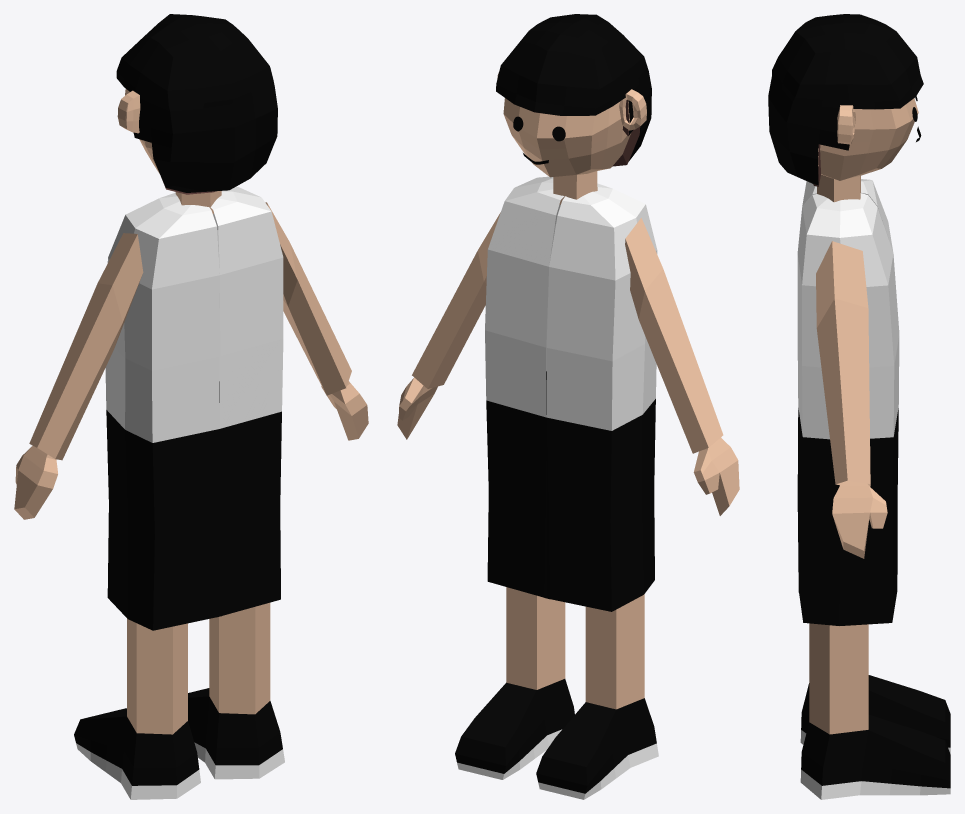
Rendered from student03(wave).fbx.
3 renders of one model, left to right at view 1: azimuth 30°, elevation 25°; view 2: azimuth 150°, elevation 25°; view 3: azimuth 270°, elevation 25°, orthographic. The views are drawn at different scales.
Parts seen in each view (by area): view 1: Lec_body, Lec_leg, Lec_hair, Lec_arm, Lec_ear; view 2: Lec_body, Lec_leg, Lec_arm, Lec_hair, Lec_head, Lec_neck, Lec_ear; view 3: Lec_body, Lec_leg, Lec_hair, Lec_arm, Lec_head, Lec_neck, Lec_ear.
Boxes of the visible parts, left/top/right/bottom form: Lec_body: left=105, top=187, right=283, bottom=630; Lec_leg: left=74, top=602, right=284, bottom=799; Lec_hair: left=116, top=14, right=277, bottom=192; Lec_arm: left=14, top=202, right=368, bottom=519; Lec_ear: left=117, top=90, right=140, bottom=133; Lec_body: left=485, top=176, right=657, bottom=611; Lec_leg: left=455, top=587, right=658, bottom=799; Lec_arm: left=397, top=212, right=739, bottom=515; Lec_hair: left=496, top=14, right=651, bottom=160; Lec_head: left=503, top=98, right=640, bottom=177; Lec_neck: left=553, top=171, right=597, bottom=204; Lec_ear: left=497, top=72, right=646, bottom=130; Lec_body: left=797, top=179, right=899, bottom=625; Lec_leg: left=800, top=623, right=950, bottom=799; Lec_hair: left=768, top=14, right=923, bottom=185; Lec_arm: left=816, top=241, right=887, bottom=558; Lec_head: left=813, top=98, right=918, bottom=186; Lec_neck: left=817, top=156, right=860, bottom=202; Lec_ear: left=837, top=105, right=855, bottom=144.
Size of the model in its own units: 174 by 80.95 by 362.
